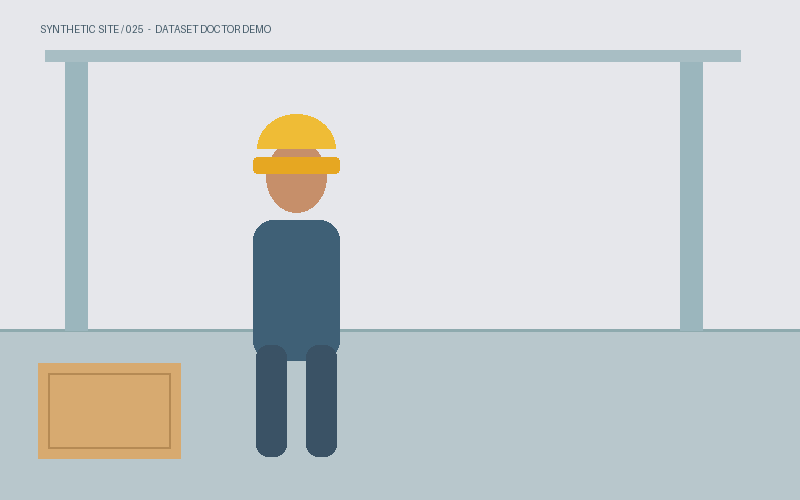Safety-Helmet: (253, 127, 339, 173)
